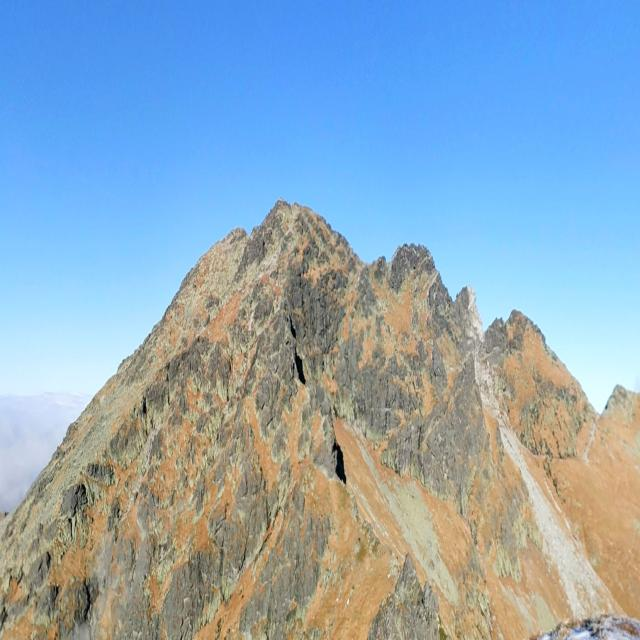Swinica: (127, 46, 446, 360)
